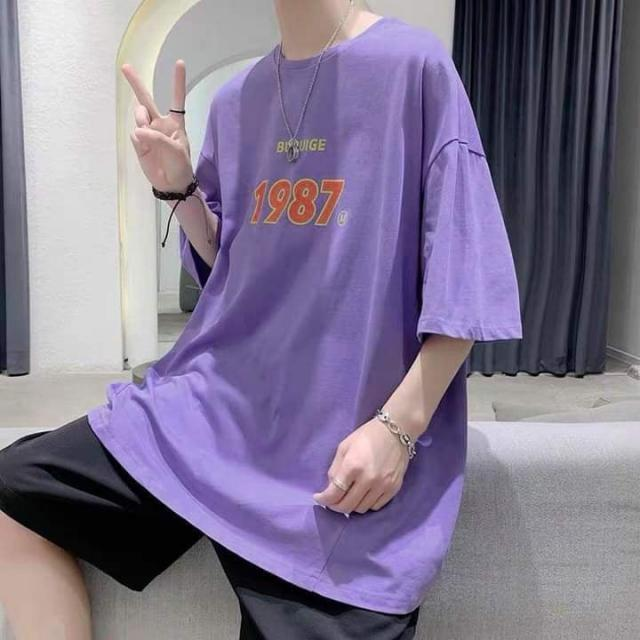Shirt: (92, 12, 528, 620)
